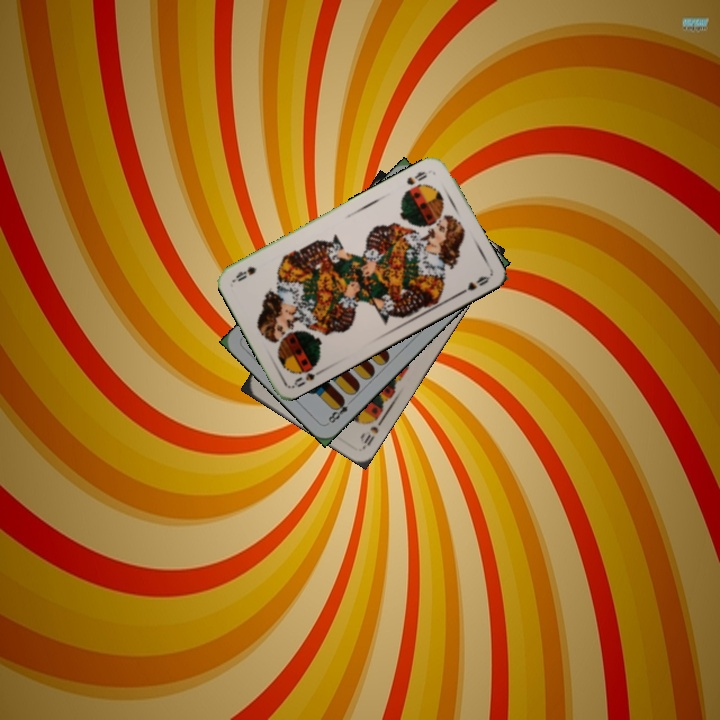E8: (323, 395, 356, 427)
S10: (356, 411, 387, 450)
SO: (289, 358, 327, 390), (402, 167, 430, 188)
